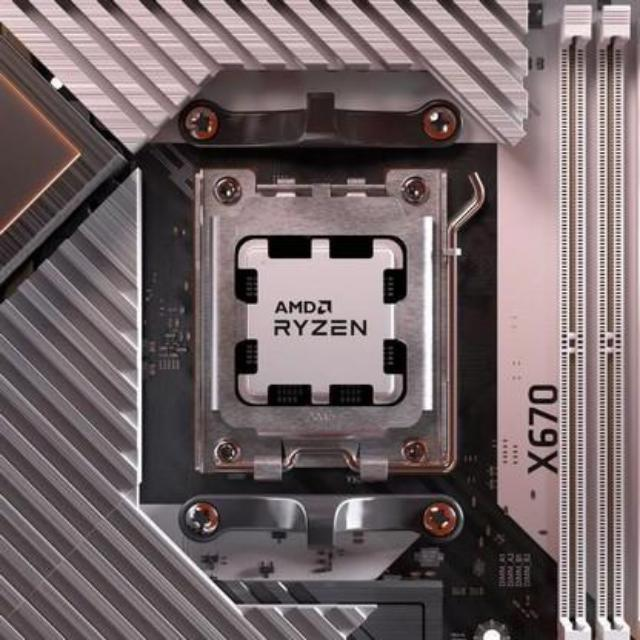CPU: (234, 234, 403, 408)
